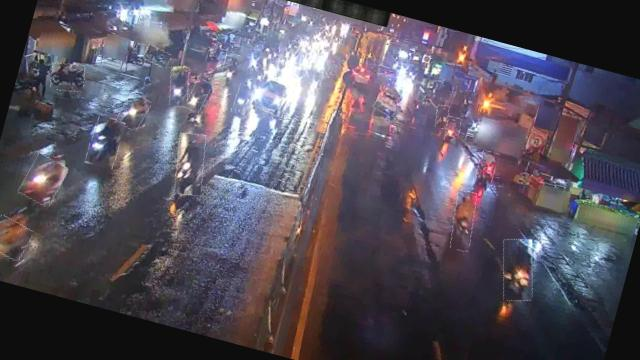Bike: (492, 235, 542, 305), (167, 129, 213, 198), (18, 152, 68, 207), (444, 188, 482, 252), (84, 114, 125, 170), (0, 214, 33, 261), (47, 58, 87, 96), (116, 91, 151, 132), (163, 64, 194, 108), (472, 150, 498, 192), (184, 77, 210, 114), (142, 45, 172, 68), (442, 115, 463, 146), (231, 82, 250, 115), (220, 52, 240, 82), (432, 104, 451, 130), (248, 48, 262, 70)
Car: (250, 73, 294, 117), (372, 87, 402, 117)
